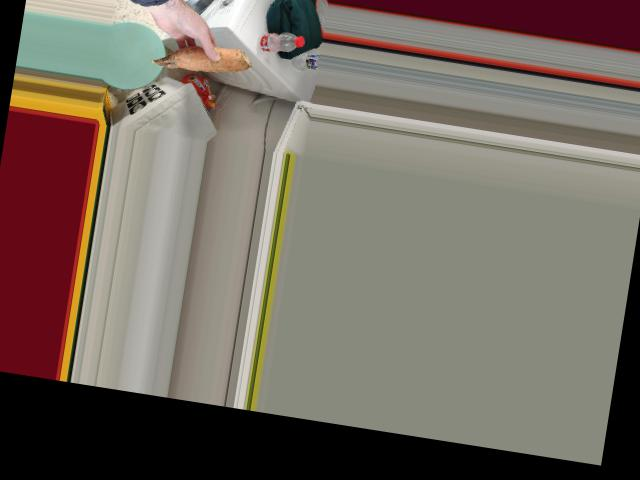sweet_potato: (146, 40, 256, 82)
